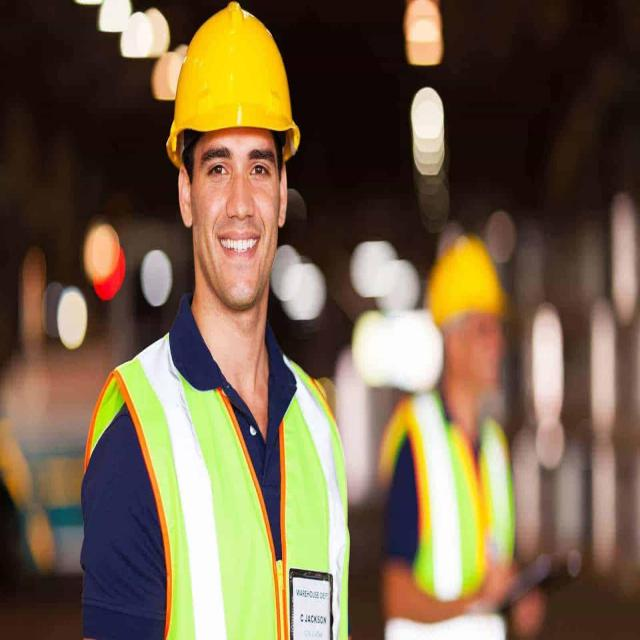Reflective-Jacket: (85, 323, 354, 639), (390, 391, 517, 612)
Safety-Helmet: (166, 7, 300, 166), (423, 227, 513, 339)
